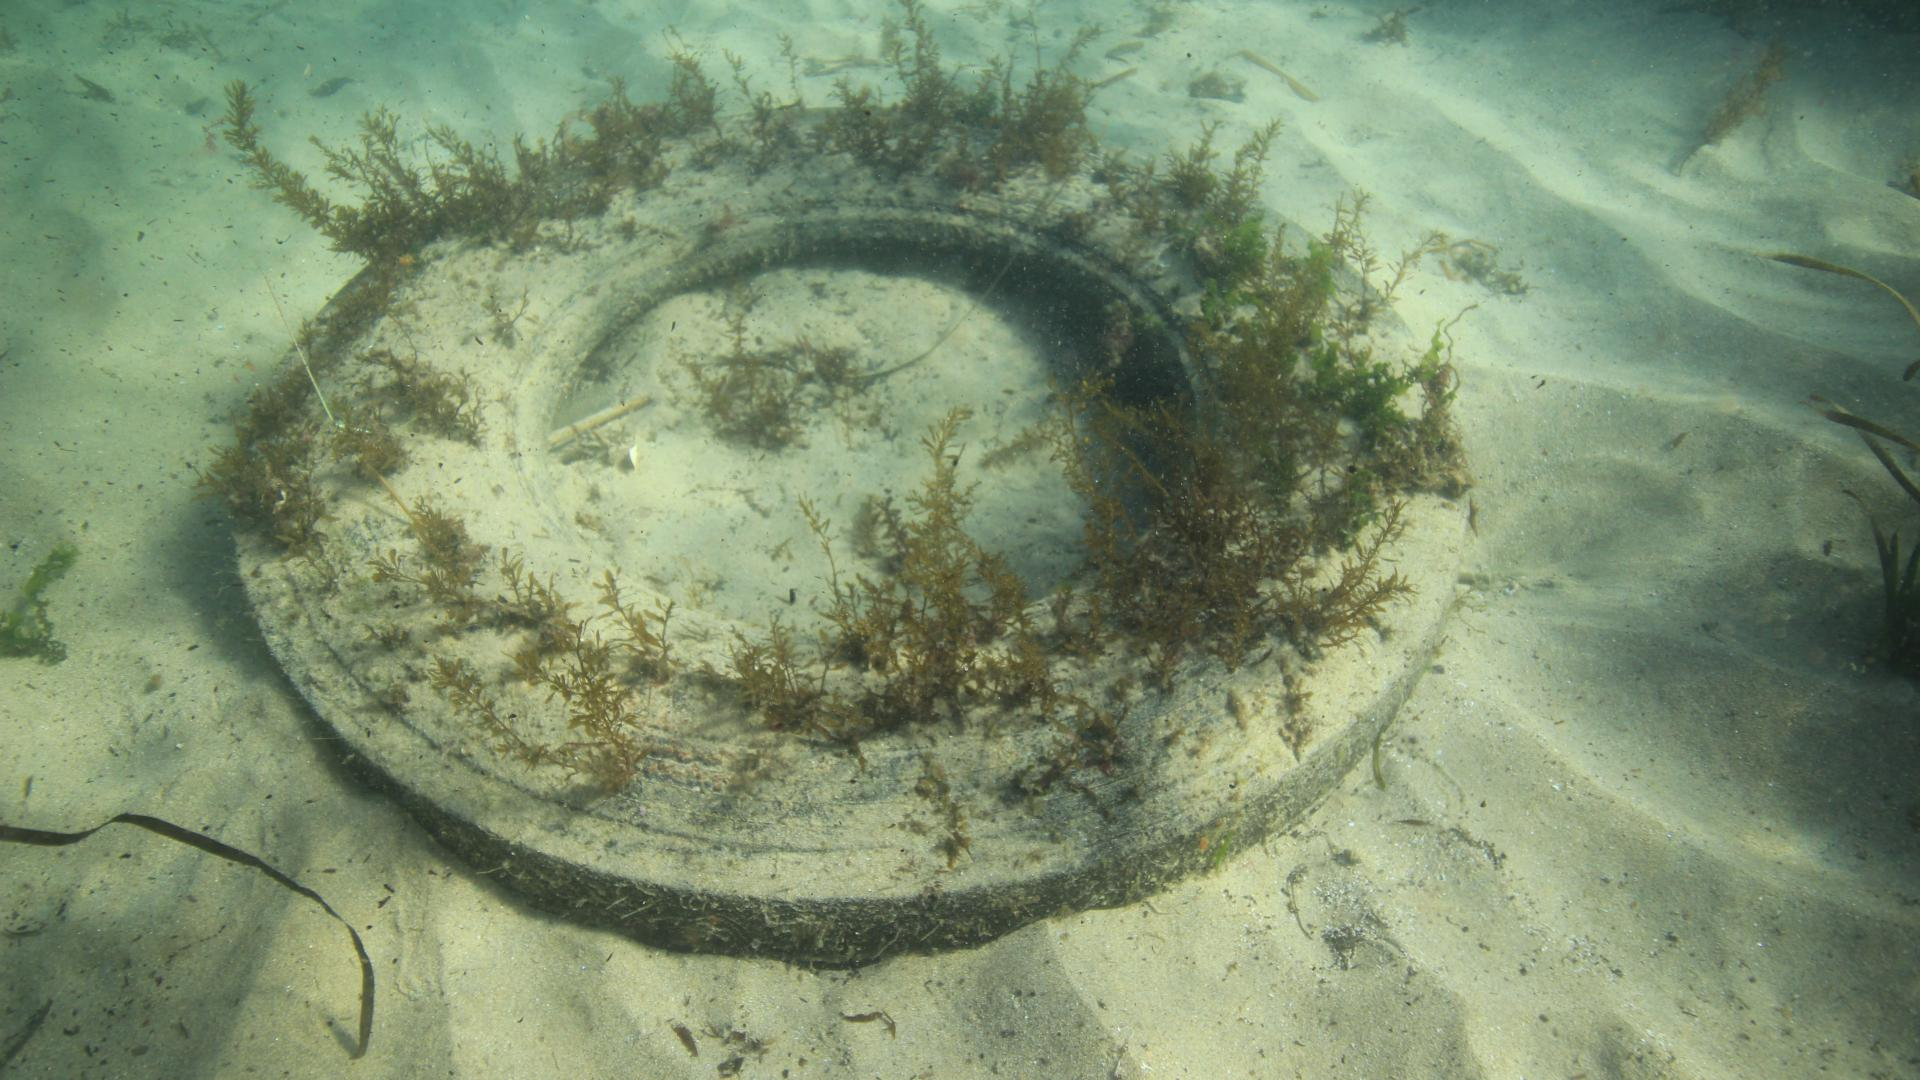tire: (232, 107, 1466, 967)
